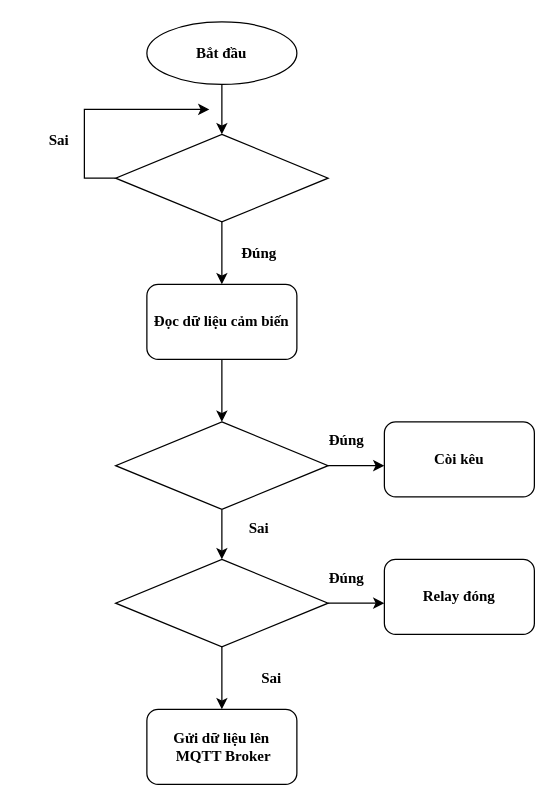
The diagram is 556 pixels wide and 806 high, and some of its shapes have lost their labels. Here are the shapes that lost their labels. From the top down, the centre of each, then its label:
pixel 221 177: Khởi tạo WiFi và MQTT
pixel 221 465: Điện áp > Điện áp cảnh báo
pixel 221 602: Điện áp > Điện áp cắt
